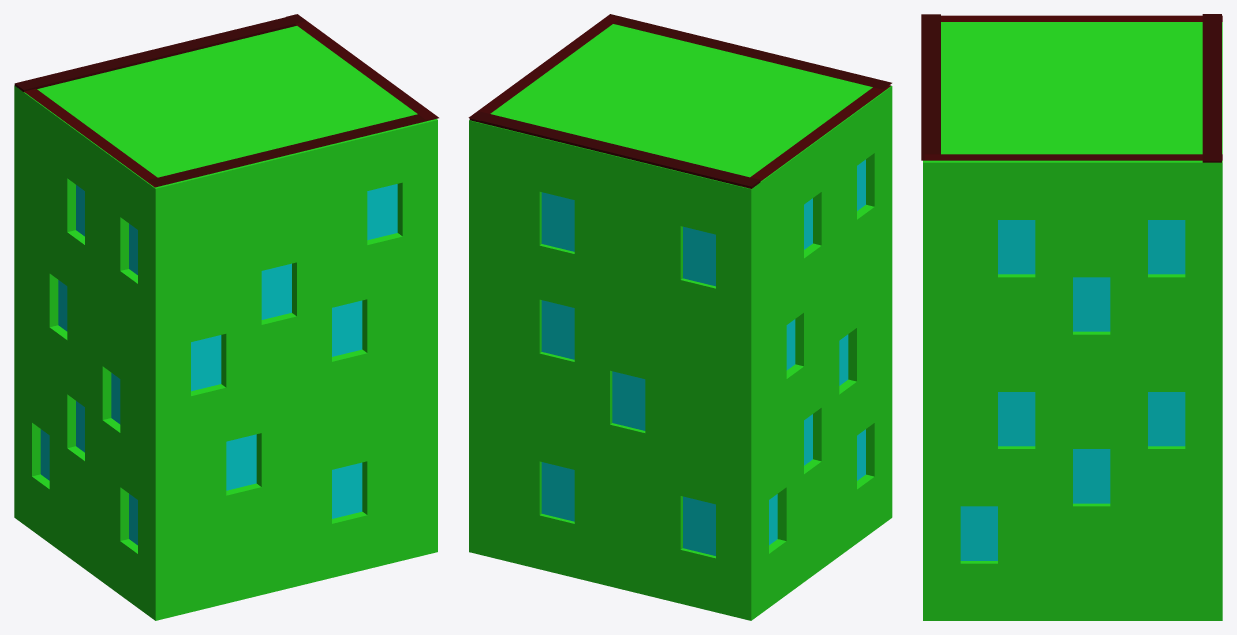
Rendered from building 6 (green).fbx.
The picture shows the model from 3 angles, left to right: view 1: azimuth 30°, elevation 25°; view 2: azimuth 150°, elevation 25°; view 3: azimuth 270°, elevation 25°; orthographic projection. The views are drawn at different scales.
Parts seen in each view (by area): view 1: Cube, Cube.003, Cube.004, Cube.002, Cube.001; view 2: Cube, Cube.003, Cube.004, Cube.002, Cube.001; view 3: Cube, Cube.003, Cube.004, Cube.002, Cube.001.
Part boxes in pixels (x1,y1,x2,y2): Cube: (14,26,437,620); Cube.003: (14,14,305,92); Cube.004: (148,114,438,186); Cube.002: (286,14,437,119); Cube.001: (24,88,157,187); Cube: (469,24,892,620); Cube.003: (469,111,760,188); Cube.004: (609,14,891,89); Cube.002: (468,15,620,120); Cube.001: (739,85,891,188); Cube: (923,22,1222,620); Cube.003: (1202,14,1221,162); Cube.004: (921,14,940,160); Cube.002: (924,154,1222,160); Cube.001: (941,15,1222,21).
Bounding box in the file's own units: 843 × 1235 × 733.
